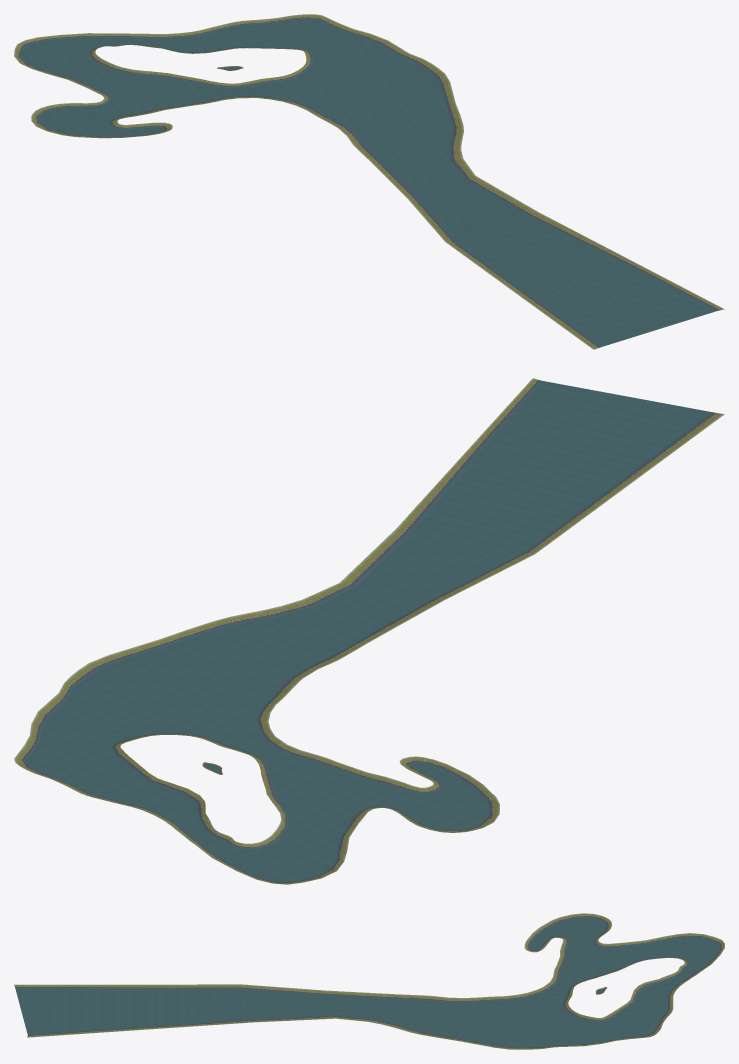
The model's file is Canada_track_river.dae.
3 renders of one model, top to bottom at view 1: azimuth 30°, elevation 25°; view 2: azimuth 150°, elevation 25°; view 3: azimuth 270°, elevation 25°, orthographic. The views are drawn at different scales.
Parts seen in each view (by area): view 1: Canada_track_river; view 2: Canada_track_river; view 3: Canada_track_river.
Boxes of the visible parts, x1,y1,x2,y2 form: Canada_track_river: (14, 14, 724, 349); Canada_track_river: (14, 378, 724, 884); Canada_track_river: (14, 913, 724, 1049).
Size of the model in its own units: 56.23 by 124 by 0.2543.
Materials: 2 (2 with a texture image).
